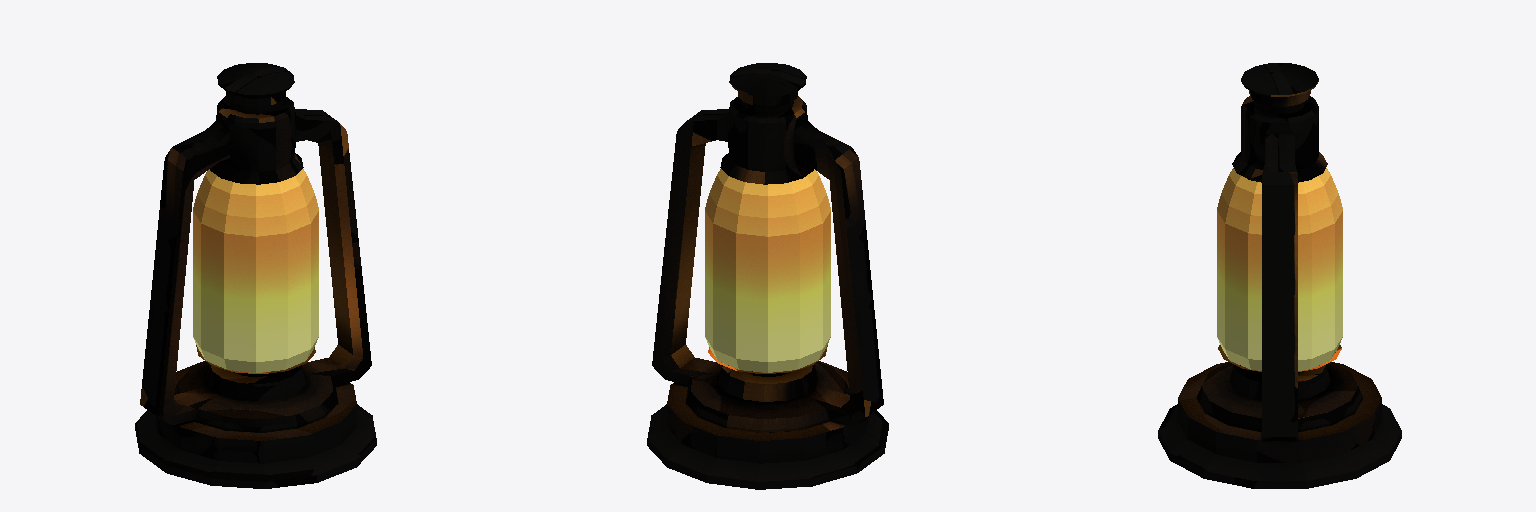
The picture shows the model from 3 angles: view 1: azimuth 30°, elevation 25°; view 2: azimuth 150°, elevation 25°; view 3: azimuth 270°, elevation 25°; orthographic projection.
Parts seen in each view (by area): view 1: Lantern_Cylinder, glass_Cylinder.003; view 2: Lantern_Cylinder, glass_Cylinder.003; view 3: Lantern_Cylinder, glass_Cylinder.003.
Part boxes in pixels (x1,y1,x2,y2): Lantern_Cylinder: (135, 63, 376, 488); glass_Cylinder.003: (193, 169, 318, 372); Lantern_Cylinder: (647, 63, 888, 489); glass_Cylinder.003: (705, 169, 830, 372); Lantern_Cylinder: (1158, 63, 1401, 488); glass_Cylinder.003: (1217, 168, 1342, 370).
Size of the model in its own units: 2.02 by 3.3 by 2.
3 materials, 3 textured.